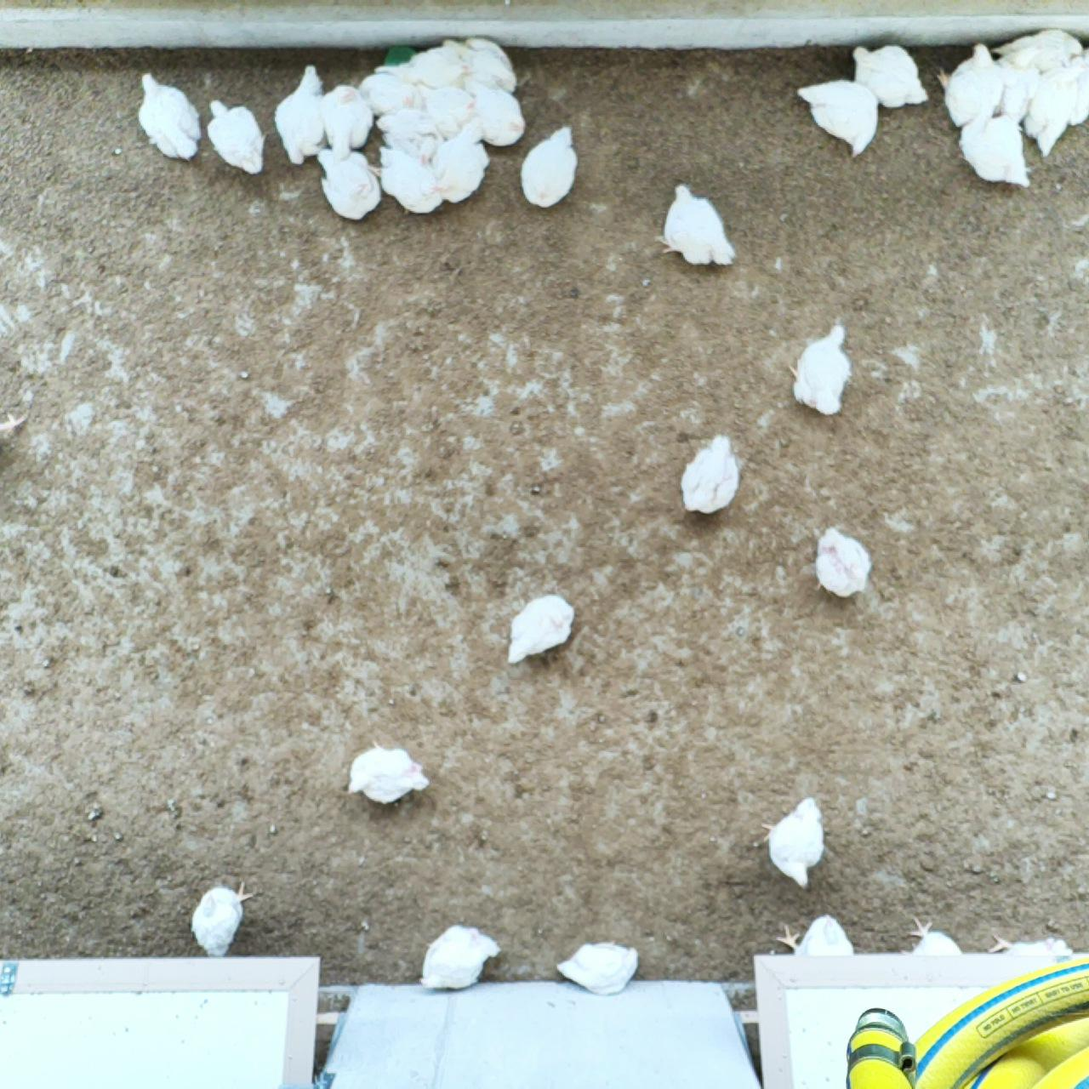chicken: (771, 910, 855, 1023), (890, 915, 968, 1014), (656, 179, 736, 272), (988, 932, 1076, 1014), (794, 78, 879, 158), (955, 104, 1033, 190), (415, 925, 503, 1000), (133, 72, 205, 163), (936, 39, 1004, 135), (342, 738, 433, 807), (273, 60, 332, 166), (760, 796, 825, 892), (792, 319, 855, 417), (1028, 55, 1087, 156), (309, 143, 384, 222), (678, 430, 741, 520), (505, 593, 577, 671), (191, 879, 256, 965), (204, 94, 268, 178), (851, 43, 927, 111), (372, 143, 445, 213), (519, 124, 576, 211), (557, 940, 642, 998), (461, 74, 524, 152), (434, 118, 491, 203), (988, 44, 1044, 129), (319, 81, 373, 165), (814, 524, 873, 600), (990, 27, 1080, 75), (374, 109, 443, 167), (448, 37, 520, 92), (381, 46, 466, 90), (413, 82, 476, 139), (357, 68, 422, 120), (1061, 42, 1089, 130)
